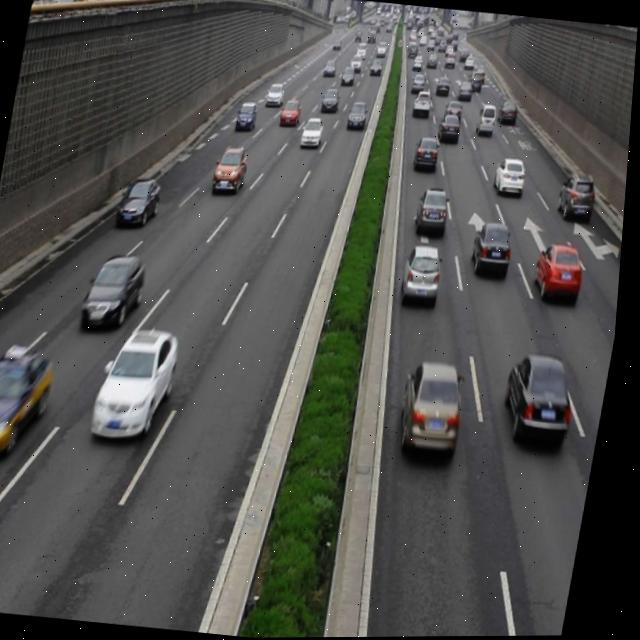car: (94, 323, 187, 445), (502, 350, 584, 450), (400, 358, 474, 458), (0, 344, 61, 463), (83, 252, 152, 334), (532, 241, 589, 304), (401, 243, 448, 307), (471, 220, 517, 279), (119, 174, 166, 229), (556, 169, 601, 225), (212, 142, 254, 197), (415, 184, 454, 236), (493, 156, 530, 199), (413, 135, 443, 174), (300, 115, 326, 151), (236, 98, 261, 133), (438, 111, 463, 144), (279, 97, 303, 129), (347, 99, 370, 132)
